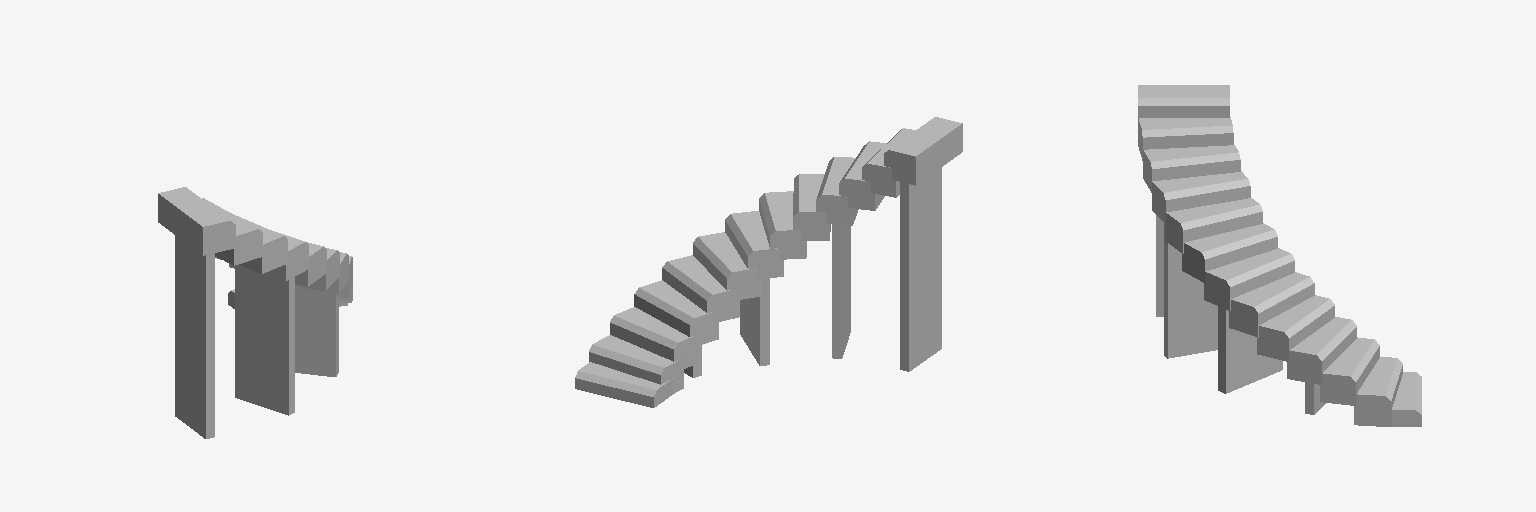
File: TowerStairs.obj
3 renders of one model, left to right at view 1: azimuth 30°, elevation 25°; view 2: azimuth 150°, elevation 25°; view 3: azimuth 270°, elevation 25°, orthographic.
Parts seen in each view (by area): view 1: tower_stair_stone; view 2: tower_stair_stone; view 3: tower_stair_stone.
Part boxes in pixels (x1,y1,x2,y2): tower_stair_stone: (158,187,352,438); tower_stair_stone: (575,117,962,407); tower_stair_stone: (1138,85,1421,426).
Bounding box in the file's own units: 7 × 6 × 6.96.